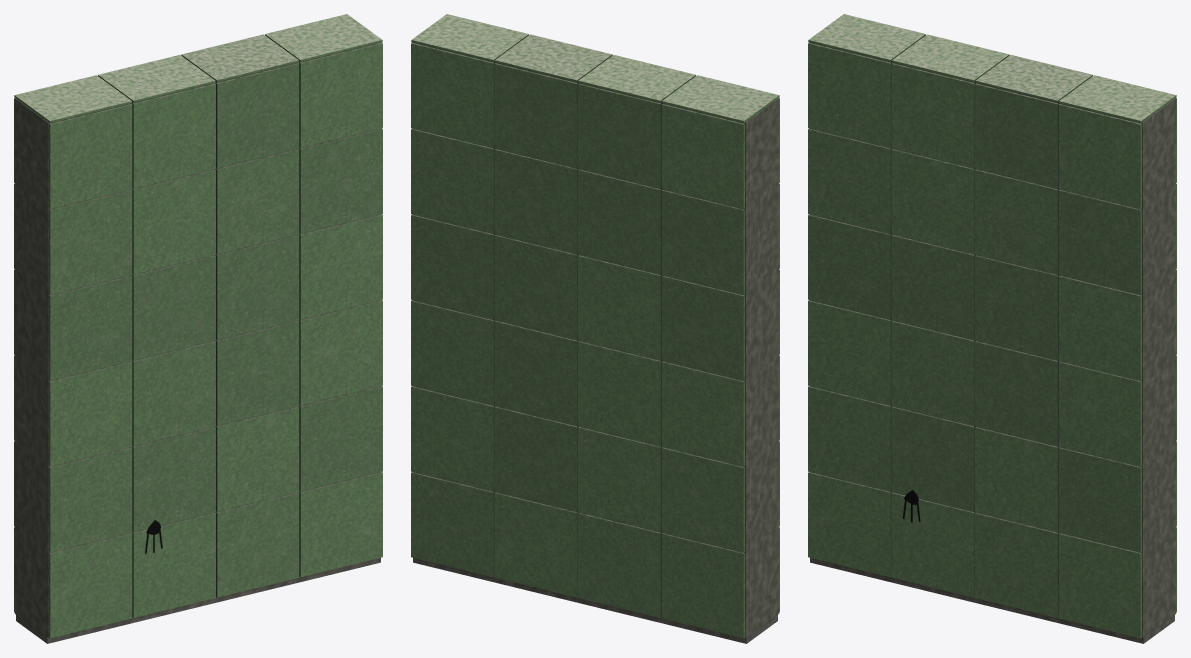
Rendered from hedge_wall.fbx.
The picture shows the model from 3 angles, left to right: view 1: azimuth 30°, elevation 25°; view 2: azimuth 150°, elevation 25°; view 3: azimuth 330°, elevation 25°; orthographic projection.
Parts seen in each view (by area): view 1: Body; view 2: Body; view 3: Body.
Boxes of the visible parts, x1,y1,x2,y2 form: Body: (14, 14, 382, 643); Body: (411, 14, 779, 643); Body: (808, 14, 1176, 643).
Size of the model in its own units: 16 by 24 by 3.01.
1 material, 1 textured.
